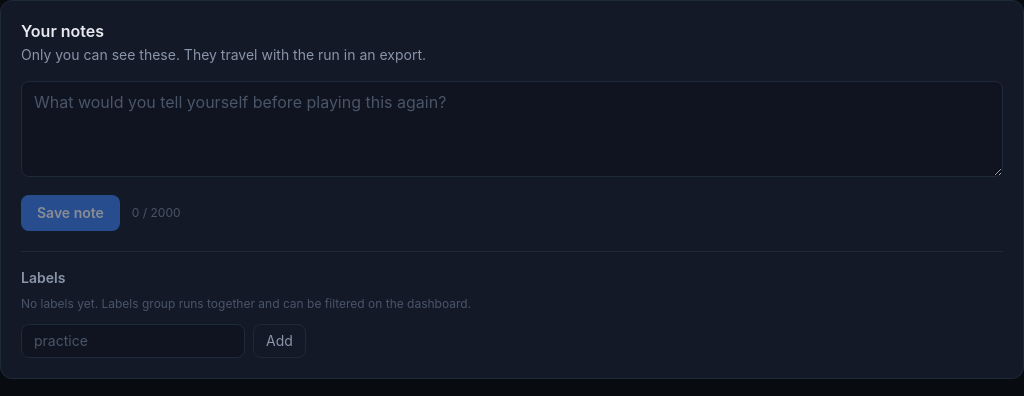
Test: RunAnnotations — the note › confirms the save
Type "Changed" into the text box named "Notes on this run" at (512, 129), box [21,81,1003,177]
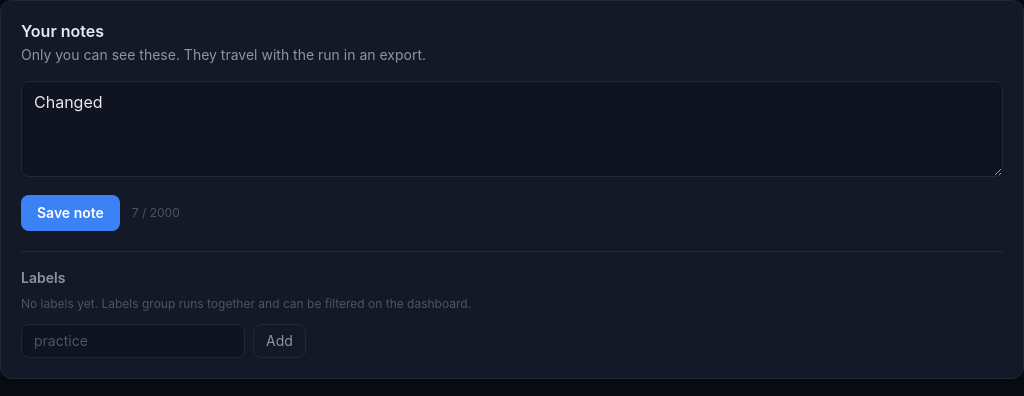
Click the button "Save note" at (70, 213), box [21,195,120,231]
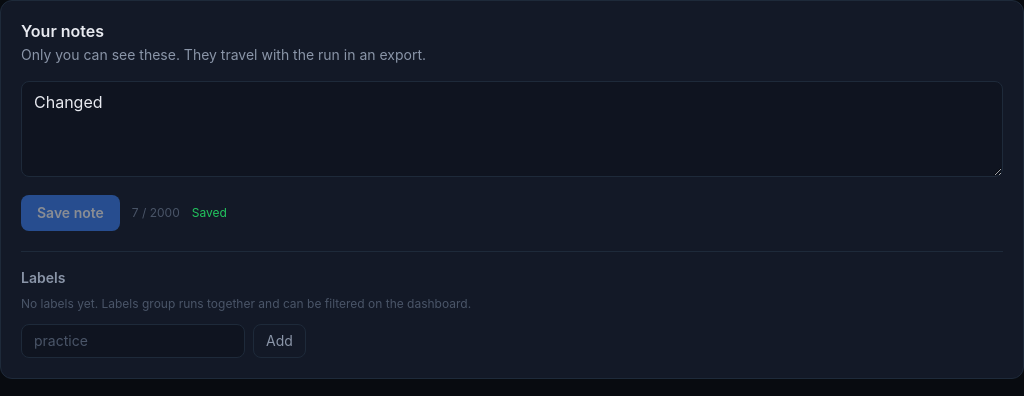
Check: the text "Saved" is shown, box [192,205,227,221]
